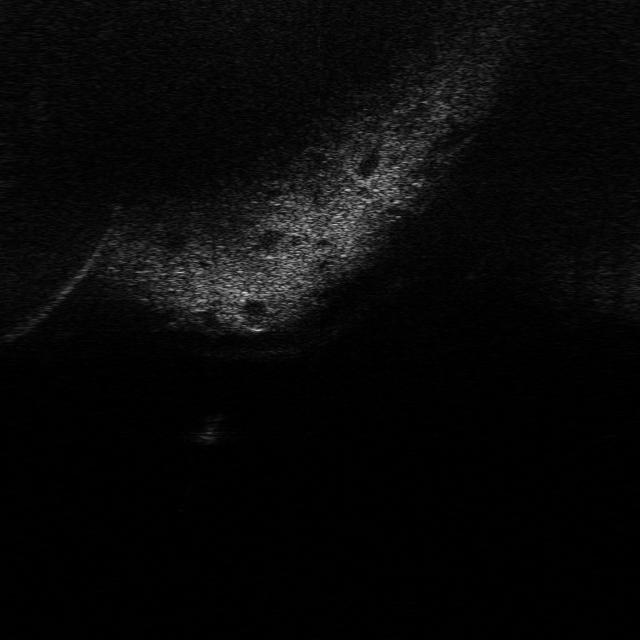cylinder: (193, 412, 227, 448)
